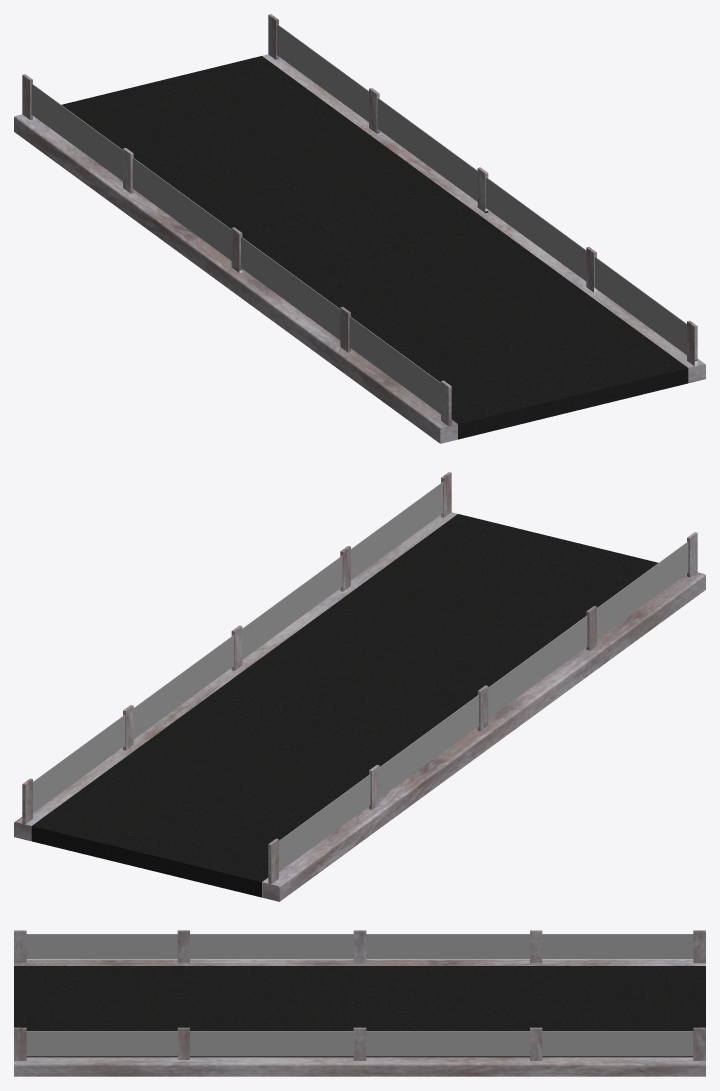
File: long_striaght.fbx
3 renders of one model, top to bottom at view 1: azimuth 30°, elevation 25°; view 2: azimuth 150°, elevation 25°; view 3: azimuth 270°, elevation 25°, orthographic. The views are drawn at different scales.
Visible parts, largest first — view 1: long_straight_road, barrier, long_straight_railing; view 2: long_straight_road, barrier, long_straight_railing; view 3: long_straight_road, barrier, long_straight_railing.
Boxes of the visible parts, bbox=[...] form: long_straight_road: bbox=[61, 56, 688, 439]; barrier: bbox=[31, 24, 686, 413]; long_straight_railing: bbox=[14, 14, 705, 443]; long_straight_road: bbox=[31, 514, 658, 897]; barrier: bbox=[33, 482, 688, 871]; long_straight_railing: bbox=[14, 472, 705, 901]; long_straight_road: bbox=[14, 966, 705, 1057]; barrier: bbox=[26, 934, 693, 1056]; long_straight_railing: bbox=[14, 930, 705, 1076].
Bounding box in the file's own units: 45 × 8.91 × 125.
